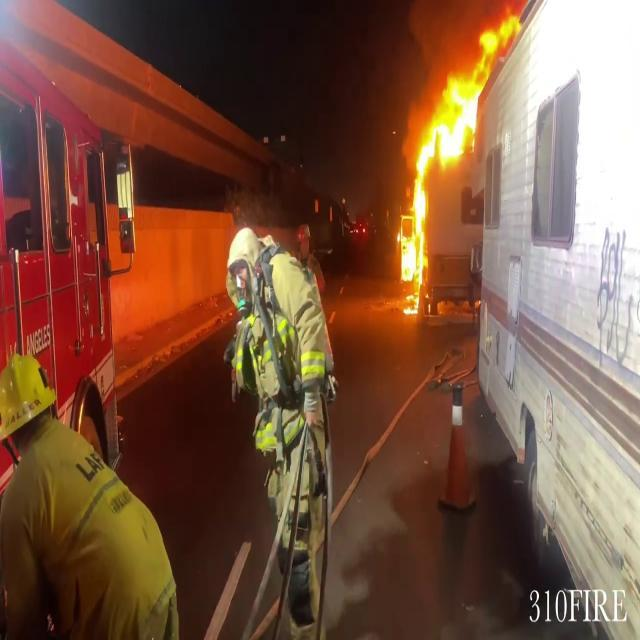Fire: (394, 6, 504, 302)
